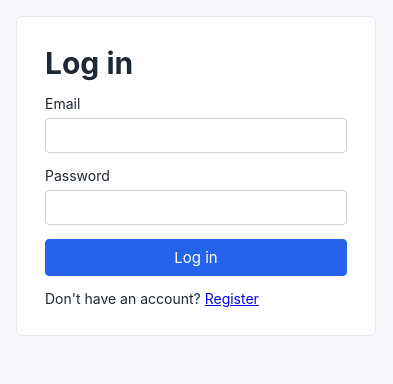
Test: shows the error returned by the server
The image size is (393, 384).
Type "demo@example.com" into the field labelled "Email". click: x=196, y=136
box: 45,118 -> 347,153
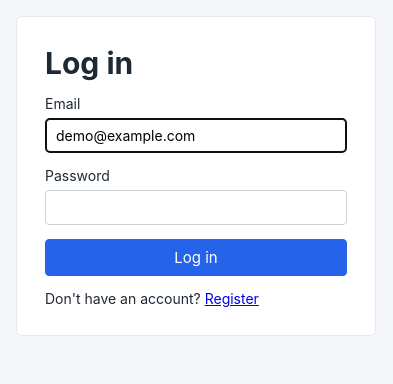
Type "wrong-password" into the password field labelled "Password". click: x=196, y=208
box: 45,190 -> 347,225
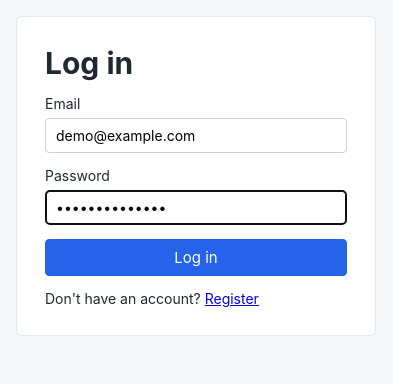
Click the button "Log in". click: x=196, y=258
box: 45,239 -> 347,276
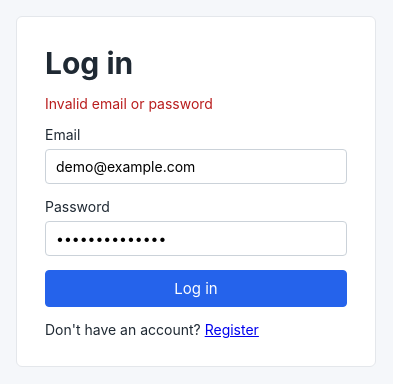
Check: the button "Log in" is enabled, box 45,270 -> 347,307
Check: the text "Invalid email or password" is shown, box 45,95 -> 213,112
